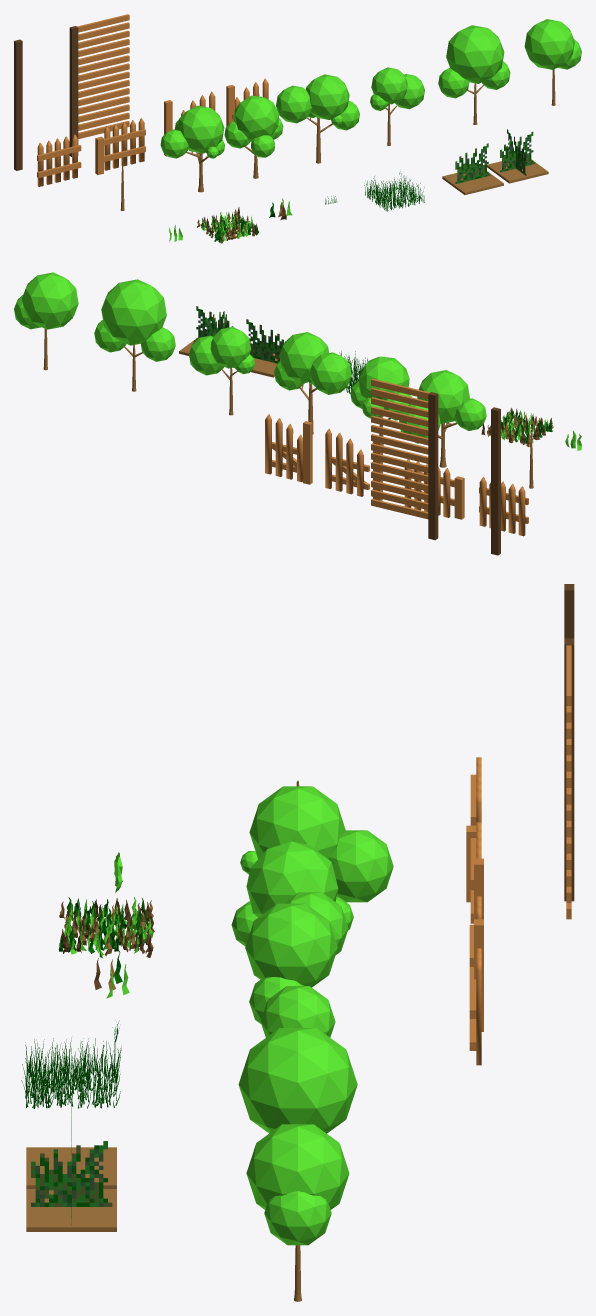
File: Environment.fbx
The picture shows the model from 3 angles, top to bottom: view 1: azimuth 30°, elevation 25°; view 2: azimuth 150°, elevation 25°; view 3: azimuth 270°, elevation 25°; orthographic projection. The views are drawn at different scales.
Parts seen in each view (by area): view 1: WoodenFence1_1, Tree4, Tree1, Tree2, Tree0, Tree5, Tree3, WoodenFence0_2, WoodenFence0_1, OldBush2, OldBush1, WoodenFence1_0 (+5 smaller); view 2: WoodenFence1_1, Tree4, Tree1, Tree5, Tree2, Tree3, WoodenFence0_4, Tree0, WoodenFence0_3, WoodenFence0_1, WoodenFence1_0, WoodenFence0_2 (+2 smaller); view 3: Tree4, Tree5, Tree2, Tree1, Tree0, OldBush2, OldBush1, Plane.183, WoodenFence1_1, Tree3, GrassBlock182, Plane (+2 smaller).
Part boxes in pixels (x1,y1,x2,y2): WoodenFence1_1: (69, 14, 129, 156); Tree4: (438, 25, 510, 124); Tree1: (276, 74, 359, 163); Tree2: (160, 105, 224, 192); Tree0: (224, 95, 283, 178); Tree5: (524, 19, 581, 105); Tree3: (370, 67, 424, 145); WoodenFence0_2: (95, 118, 145, 174); WoodenFence0_1: (37, 134, 81, 186); OldBush2: (364, 171, 424, 211); OldBush1: (197, 207, 258, 243); WoodenFence1_0: (14, 39, 22, 170); WoodenFence1_1: (371, 378, 438, 540); Tree4: (94, 279, 175, 391); Tree1: (274, 332, 351, 434); Tree5: (14, 272, 78, 370); Tree2: (399, 370, 486, 467); Tree3: (189, 327, 254, 415); WoodenFence0_4: (265, 414, 312, 484); Tree0: (350, 356, 411, 445); WoodenFence0_3: (325, 428, 369, 496); WoodenFence0_1: (479, 477, 528, 536); WoodenFence1_0: (491, 407, 500, 555); WoodenFence0_2: (404, 459, 464, 519); Tree4: (238, 1028, 357, 1133); Tree5: (246, 1124, 349, 1301); Tree2: (240, 786, 393, 902); Tree1: (245, 892, 348, 1024); Tree0: (231, 841, 353, 946); OldBush2: (21, 1037, 121, 1108); OldBush1: (58, 897, 154, 958); Plane.183: (31, 1141, 112, 1206); WoodenFence1_1: (564, 638, 574, 919); Tree3: (260, 986, 335, 1037); GrassBlock182: (26, 1189, 116, 1231); Plane: (26, 1147, 116, 1188).
Size of the model in its own units: 611 by 1271 by 319.
